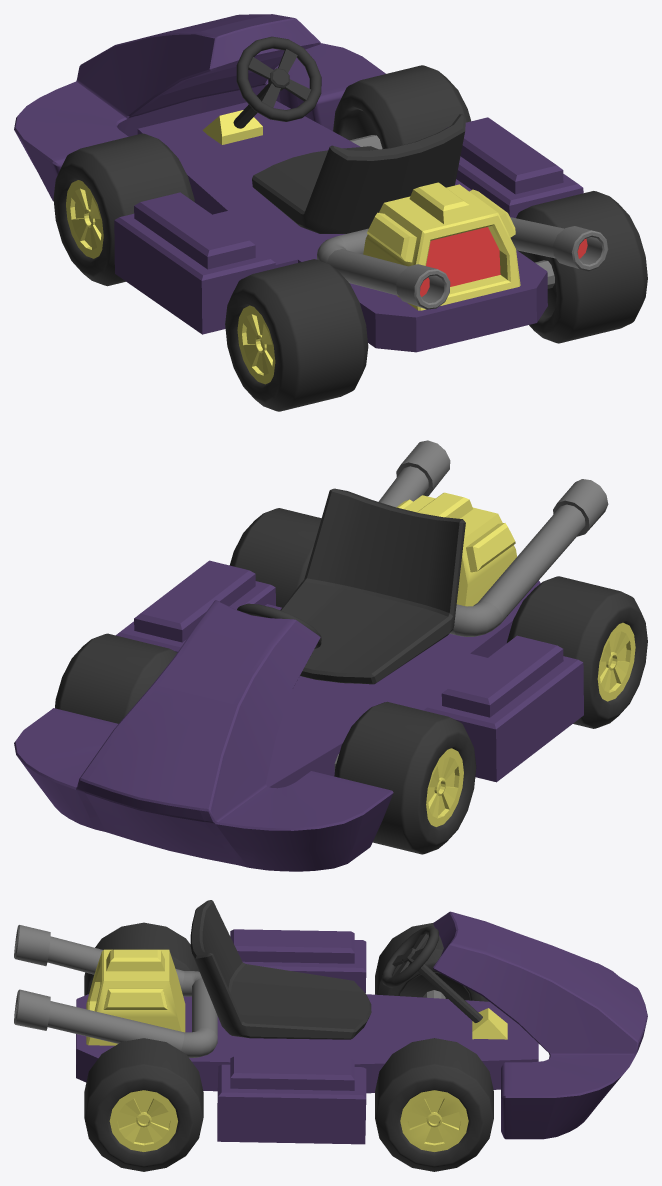
The model's file is goKart.fbx.
3 views of the same model, one above another, from view 1: azimuth 30°, elevation 25°; view 2: azimuth 150°, elevation 25°; view 3: azimuth 270°, elevation 25° (orthographic). The views are drawn at different scales.
Visible parts, largest first — view 1: main_board, front_chasis, rear_L_tire, seat, rear_R_tire, front_L_tire, engine_block1, exhaust_pipes, front_R_tire, steering_column, engine_red, L_inner_wheel (+2 smaller); view 2: front_chasis, main_board, seat, front_L_tire, rear_L_tire, exhaust_pipes, front_R_tire, rear_R_tire, engine_block1, L_inner_wheel, L_inner_wheel2, steering_column; view 3: main_board, front_chasis, seat, rear_R_tire, front_R_tire, exhaust_pipes, engine_block1, R_inner_wheel2, R_inner_wheel, steering_column, rear_L_tire, front_L_tire (+1 smaller).
Part boxes in pixels (box(x1,y1,x2,y2)): main_board: box(114, 101, 583, 352); front_chasis: box(14, 14, 385, 200); rear_L_tire: box(225, 259, 368, 411); seat: box(252, 114, 465, 233); rear_R_tire: box(516, 191, 647, 343); front_L_tire: box(53, 133, 194, 286); engine_block1: box(363, 182, 520, 310); exhaust_pipes: box(317, 217, 608, 309); front_R_tire: box(333, 65, 470, 148); steering_column: box(233, 36, 321, 128); engine_red: box(426, 227, 500, 286); L_inner_wheel: box(66, 180, 103, 258); front_chasis: box(14, 600, 393, 871); main_board: box(116, 560, 583, 788); seat: box(280, 488, 465, 684); front_L_tire: box(334, 701, 476, 854); rear_L_tire: box(507, 576, 647, 728); exhaust_pipes: box(378, 440, 608, 636); front_R_tire: box(55, 633, 177, 723); rear_R_tire: box(229, 508, 321, 607); engine_block1: box(396, 492, 516, 606); L_inner_wheel: box(426, 748, 463, 826); L_inner_wheel2: box(597, 622, 635, 701); steering_column: box(237, 603, 321, 648); main_board: box(76, 929, 538, 1144); front_chasis: box(433, 911, 647, 1139); seat: box(190, 900, 371, 1039); rear_R_tire: box(84, 1038, 203, 1171); front_R_tire: box(375, 1038, 493, 1171); exhaust_pipes: box(14, 925, 217, 1057); engine_block1: box(86, 949, 185, 1045); R_inner_wheel2: box(109, 1090, 177, 1151); R_inner_wheel: box(400, 1090, 468, 1151); steering_column: box(382, 926, 482, 1022); rear_L_tire: box(84, 922, 199, 995); front_L_tire: box(375, 923, 489, 1001).
Size of the model in its own units: 4.42 by 2.29 by 7.52.
